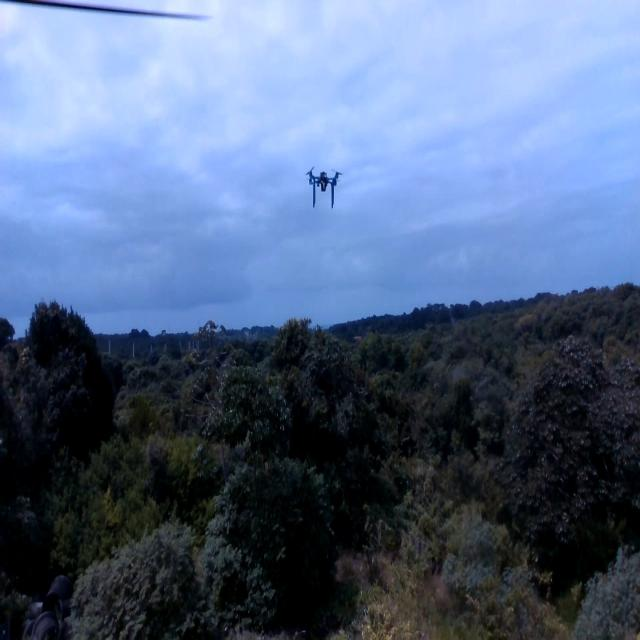-uav-: (305, 157, 346, 216)
